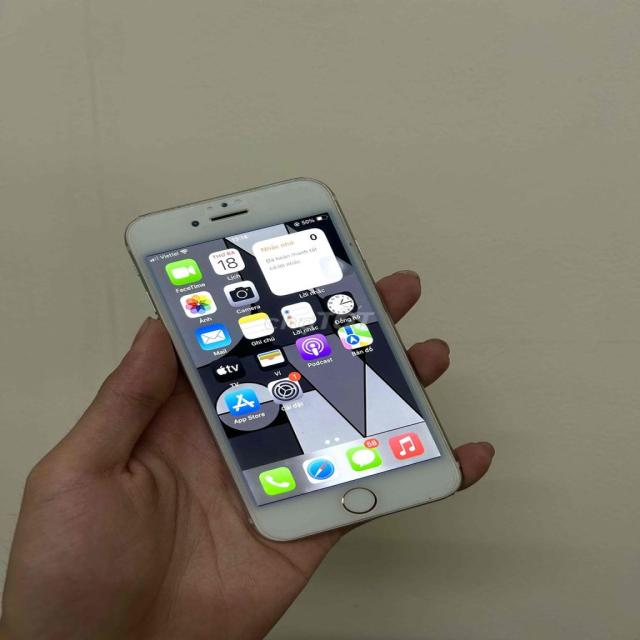gen_7_8: (118, 174, 468, 544)
scratch: (232, 178, 318, 194), (342, 223, 363, 252), (133, 206, 191, 214), (424, 491, 436, 502)
